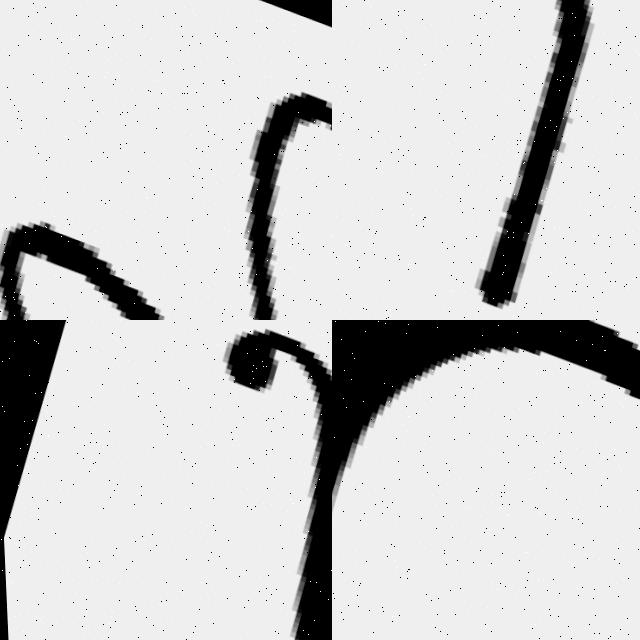C: (332, 320, 640, 500)
F: (225, 323, 332, 640)
J: (332, 0, 640, 320)
Q: (0, 0, 332, 320)
